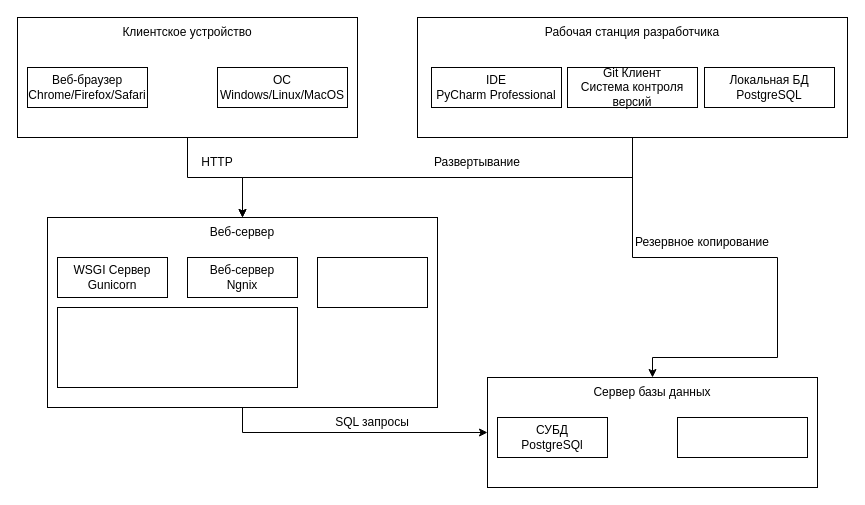
The diagram is 865 pixels wide and 505 high, and some of its shapes have lost their labels. The shapes that lost their labels are listed below. From the top down, each one's box as (x1, y1, x2, y2) in pixels, then its label:
(316, 256, 428, 308): Python Интерпретатор Python 3.x
(56, 306, 298, 388): Django Веб-приложение cinema-management-system
(676, 416, 808, 458): Файлы базы данных cinema_db
